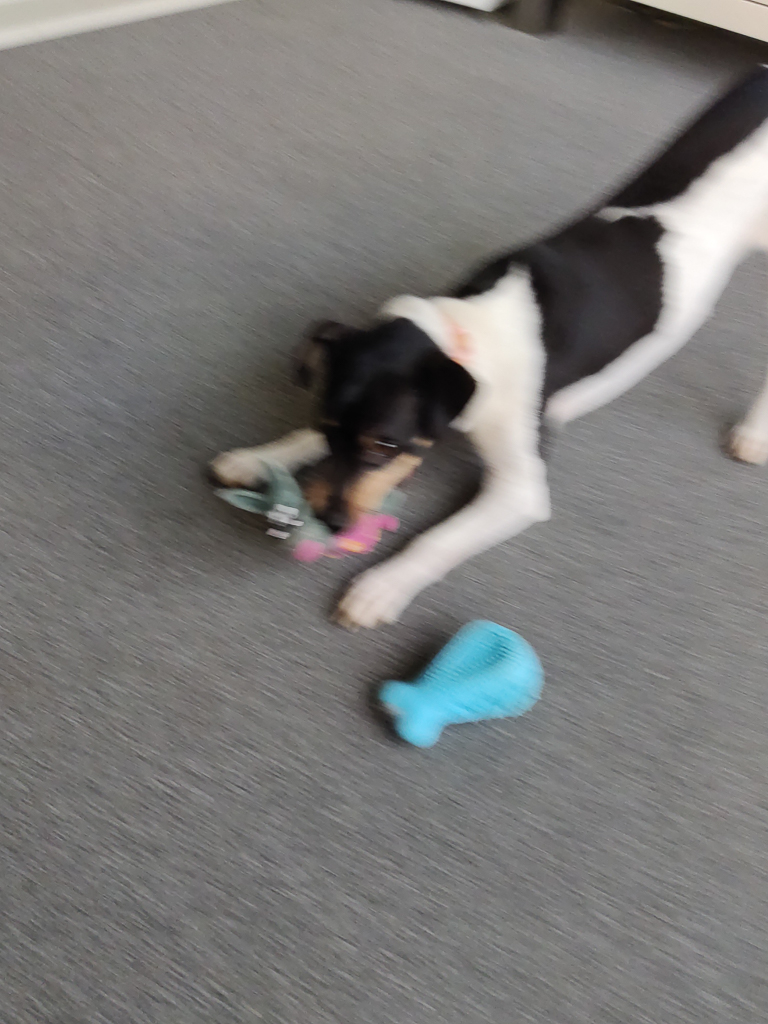Dog: (186, 44, 768, 649)
Humanoid: (214, 451, 428, 579)
